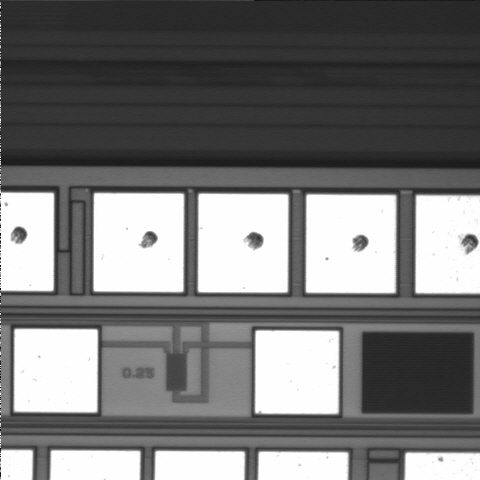pad: (94, 193, 184, 292), (198, 194, 288, 293), (306, 195, 396, 293), (14, 329, 98, 412), (255, 331, 339, 414)
